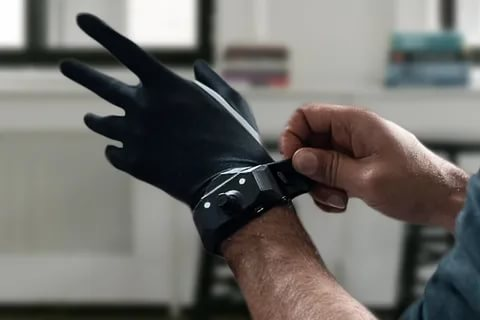gloves: (59, 9, 296, 251)
